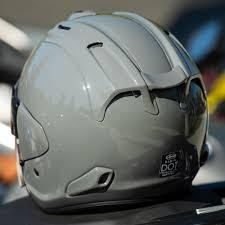helmet: (16, 23, 225, 207)
